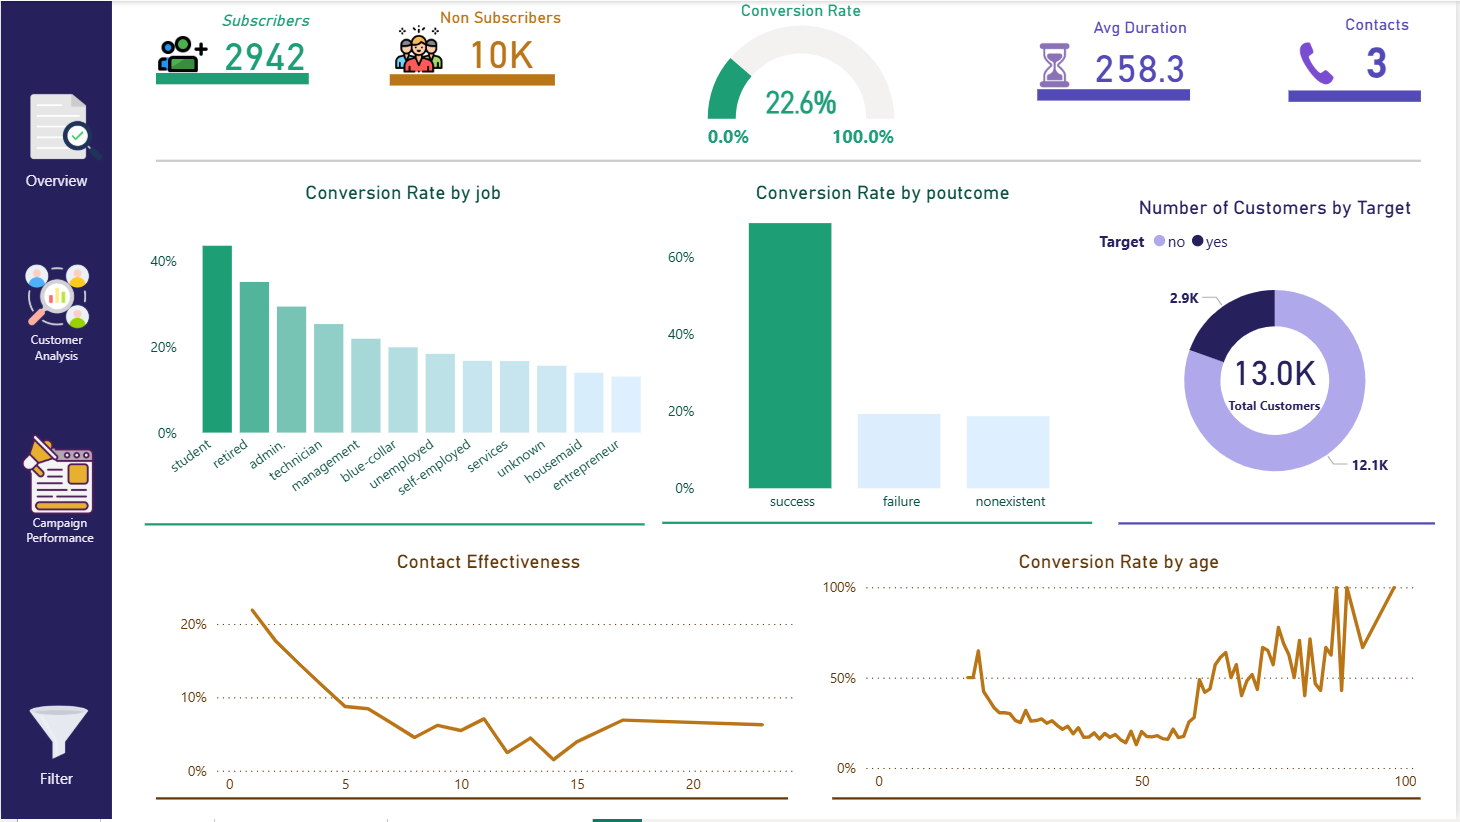

The dashboard page shown, as its layout file describes it:
{"tool":"powerbi","page":{"name":"Overview","canvas":[1280,720],"ordinal":1},"visuals":[{"type":"shape","box":[0,0,97.6,720.2],"z":0,"group":"g4"},{"type":"card","title":"Non Subscribers","fields":{"Values":["Fact_Subscription.Non Subscribers"]},"box":[377.8,6,122.6,61.9],"z":0,"group":"g2"},{"type":"card","title":"Subscribers","fields":{"Values":["Fact_Subscription.Subscribers"]},"box":[176.5,8.4,110.5,57.6],"z":0,"group":"g1"},{"type":"card","title":"Contacts","fields":{"Values":["Fact_Subscription.Avg Contacts"]},"box":[1170.7,12,79.2,61.2],"z":0,"group":"g3"},{"type":"card","title":"Avg Duration","fields":{"Values":["Fact_Subscription.Avg Duration"]},"box":[931.2,14.4,141.7,68.4],"z":0,"group":"g5"},{"type":"shape","box":[126.6,432.7,439.7,54.3],"z":0},{"type":"actionButton","box":[0,0,100,40],"z":1000},{"type":"shape","box":[135.7,40.8,134.5,55.2],"z":1000,"group":"g1"},{"type":"shape","box":[341.7,42.5,145.3,55.2],"z":1000,"group":"g2"},{"type":"shape","box":[910.8,55.2,134.5,55.2],"z":1000,"group":"g5"},{"type":"shape","box":[1132.3,56.4,116.5,55.2],"z":1000,"group":"g3"},{"type":"image","box":[15.6,220.9,68.4,78],"z":1000,"group":"g4"},{"type":"gauge","fields":{"Y":["Fact_Subscription.Conversion Rate"]},"box":[566.8,0,275,140.5],"z":2000},{"type":"image","box":[341.7,17.3,51.6,51.6],"z":2000,"group":"g2"},{"type":"image","box":[126.1,18,67.2,56.4],"z":2000,"group":"g1"},{"type":"image","box":[901.2,30,50.4,52.8],"z":2000,"group":"g5"},{"type":"image","box":[1132.3,31.2,49.2,48],"z":2000,"group":"g3"},{"type":"image","box":[8.4,372.2,82.9,87.7],"z":2000,"group":"g4"},{"type":"donutChart","title":"Number of Customers  by Target","fields":{"Y":["Count(Fact_Subscription.CustomerID)"],"Category":["Fact_Subscription.Target"]},"box":[960.6,171.7,319.4,276.2],"z":3000},{"type":"image","box":[8.3,603.6,84.5,79.8],"z":3000,"group":"g4"},{"type":"image","box":[19.2,74.4,78,73.2],"z":4000,"group":"g4"},{"type":"card","fields":{"Values":["Fact_Subscription.Total Customers"]},"box":[1063.9,289.4,111.7,91.3],"z":4000},{"type":"lineChart","fields":{"Category":["Dim_Customers.age"],"Y":["Fact_Subscription.Conversion Rate"]},"box":[716.8,482.7,533.1,222.1],"z":5000},{"type":"lineChart","title":"Contact Effectiveness","fields":{"Category":["Fact_Subscription.Campaign"],"Y":["Fact_Subscription.Conversion Rate"]},"box":[152.5,482.7,552.3,224.5],"z":6000},{"type":"group","id":"g1","title":"Group 1","box":[126.1,8.4,160.9,87.7],"z":7000},{"type":"group","id":"g2","title":"Group 2","box":[341.7,6,158.7,91.7],"z":8000},{"type":"group","id":"g3","title":"Group 4","box":[1132.3,12,117.7,99.7],"z":9000},{"type":"shape","box":[136.9,123.7,1113.1,34.8],"z":10000},{"type":"shape","box":[581.6,441,378.4,36.2],"z":11000},{"type":"shape","box":[983.4,440.7,278.6,37.2],"z":12000},{"type":"shape","box":[731.3,683.2,517.5,37.2],"z":13000},{"type":"shape","box":[136.9,683.2,555.9,37.2],"z":14000},{"type":"group","id":"g4","title":"bar","box":[0,0,97.6,720.2],"z":15000},{"type":"group","id":"g5","title":"Group 3","box":[901.2,14.4,171.7,96.1],"z":16000},{"type":"clusteredColumnChart","fields":{"Category":["Dim_Customers.job"],"Y":["Fact_Subscription.Conversion Rate"]},"box":[126.6,158.6,455,300.5],"z":17000},{"type":"clusteredColumnChart","fields":{"Category":["Dim_Campaign.poutcome"],"Y":["Fact_Subscription.Conversion Rate"]},"box":[581.6,158.6,388.2,300.5],"z":18000},{"type":"shape","box":[21.4,141.7,56,29.8],"z":20000},{"type":"shape","box":[21.4,447.6,61.9,34.5],"z":21000},{"type":"shape","box":[21.4,289.3,56,29.8],"z":22000},{"type":"shape","box":[21.4,669.1,56,28.6],"z":23000}]}

Visuals, with their boxes on the page's 1280x720 design canvas (x1, y1, x2, y2). These are canvas units, not pixel positions in the 1460x822 screenshot, which may show the page scaled, cropped or inside an application window:
shape: <bbox>0, 0, 98, 720</bbox>
"Non Subscribers" card: <bbox>378, 6, 500, 68</bbox>
"Subscribers" card: <bbox>176, 8, 287, 66</bbox>
"Contacts" card: <bbox>1171, 12, 1250, 73</bbox>
"Avg Duration" card: <bbox>931, 14, 1073, 83</bbox>
shape: <bbox>127, 433, 566, 487</bbox>
actionButton: <bbox>0, 0, 100, 40</bbox>
shape: <bbox>136, 41, 270, 96</bbox>
shape: <bbox>342, 42, 487, 98</bbox>
shape: <bbox>911, 55, 1045, 110</bbox>
shape: <bbox>1132, 56, 1249, 112</bbox>
image: <bbox>16, 221, 84, 299</bbox>
gauge - Fact_Subscription.Conversion Rate: <bbox>567, 0, 842, 140</bbox>
image: <bbox>342, 17, 393, 69</bbox>
image: <bbox>126, 18, 193, 74</bbox>
image: <bbox>901, 30, 952, 83</bbox>
image: <bbox>1132, 31, 1182, 79</bbox>
image: <bbox>8, 372, 91, 460</bbox>
"Number of Customers  by Target" donutChart: <bbox>961, 172, 1280, 448</bbox>
image: <bbox>8, 604, 93, 683</bbox>
image: <bbox>19, 74, 97, 148</bbox>
card - Fact_Subscription.Total Customers: <bbox>1064, 289, 1176, 381</bbox>
lineChart - Dim_Customers.age x Fact_Subscription.Conversion Rate: <bbox>717, 483, 1250, 705</bbox>
"Contact Effectiveness" lineChart: <bbox>152, 483, 705, 707</bbox>
"Group 1" group: <bbox>126, 8, 287, 96</bbox>
"Group 2" group: <bbox>342, 6, 500, 98</bbox>
"Group 4" group: <bbox>1132, 12, 1250, 112</bbox>
shape: <bbox>137, 124, 1250, 158</bbox>
shape: <bbox>582, 441, 960, 477</bbox>
shape: <bbox>983, 441, 1262, 478</bbox>
shape: <bbox>731, 683, 1249, 720</bbox>
shape: <bbox>137, 683, 693, 720</bbox>
"bar" group: <bbox>0, 0, 98, 720</bbox>
"Group 3" group: <bbox>901, 14, 1073, 110</bbox>
clusteredColumnChart - Dim_Customers.job x Fact_Subscription.Conversion Rate: <bbox>127, 159, 582, 459</bbox>
clusteredColumnChart - Dim_Campaign.poutcome x Fact_Subscription.Conversion Rate: <bbox>582, 159, 970, 459</bbox>
shape: <bbox>21, 142, 77, 172</bbox>
shape: <bbox>21, 448, 83, 482</bbox>
shape: <bbox>21, 289, 77, 319</bbox>
shape: <bbox>21, 669, 77, 698</bbox>
